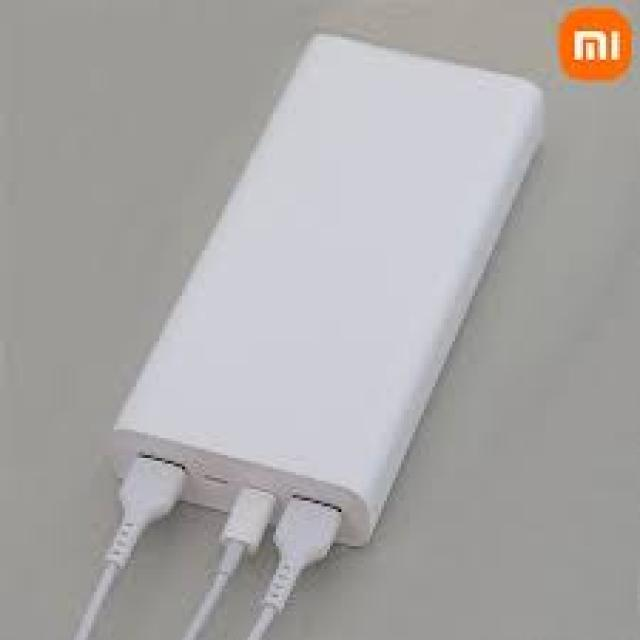power_bank: (102, 30, 554, 552)
